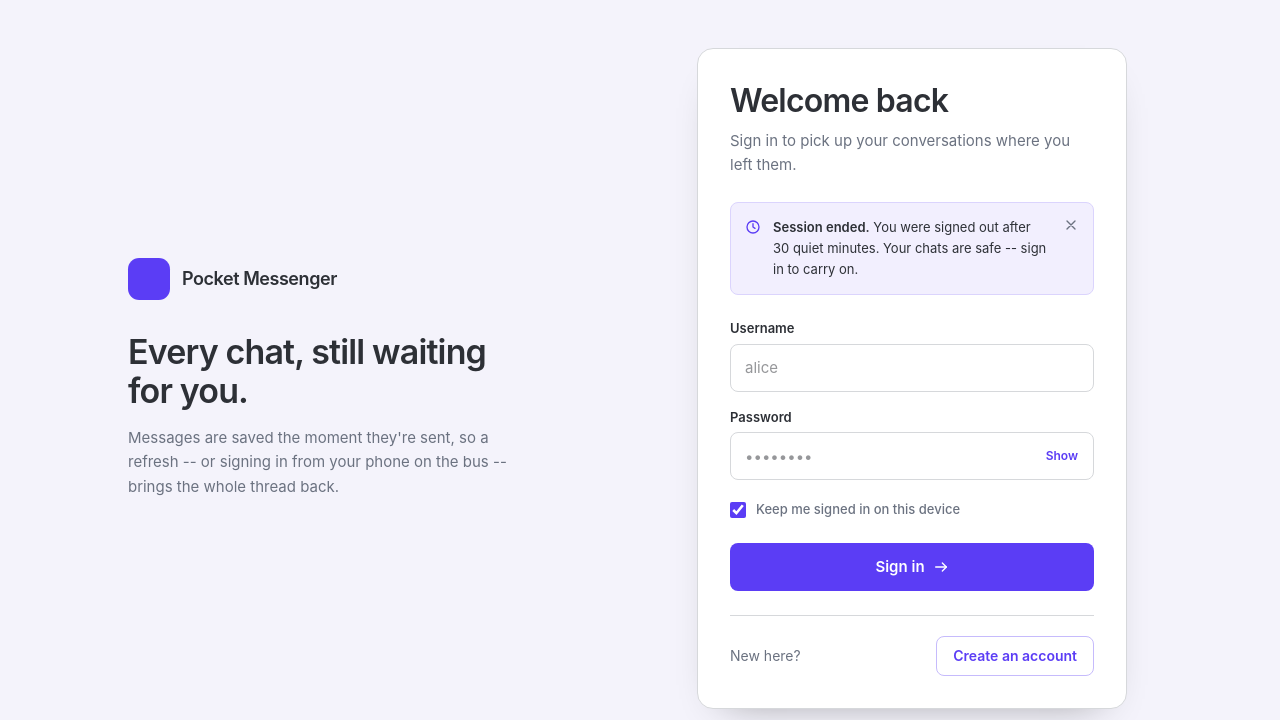
Test: Login screen › [AC-004-like] shows inline validation and sends no request when fields are empty
The width and height of the screenshot is (1280, 720).
Click the button "Sign in": (912, 567) [730,543,1094,591]
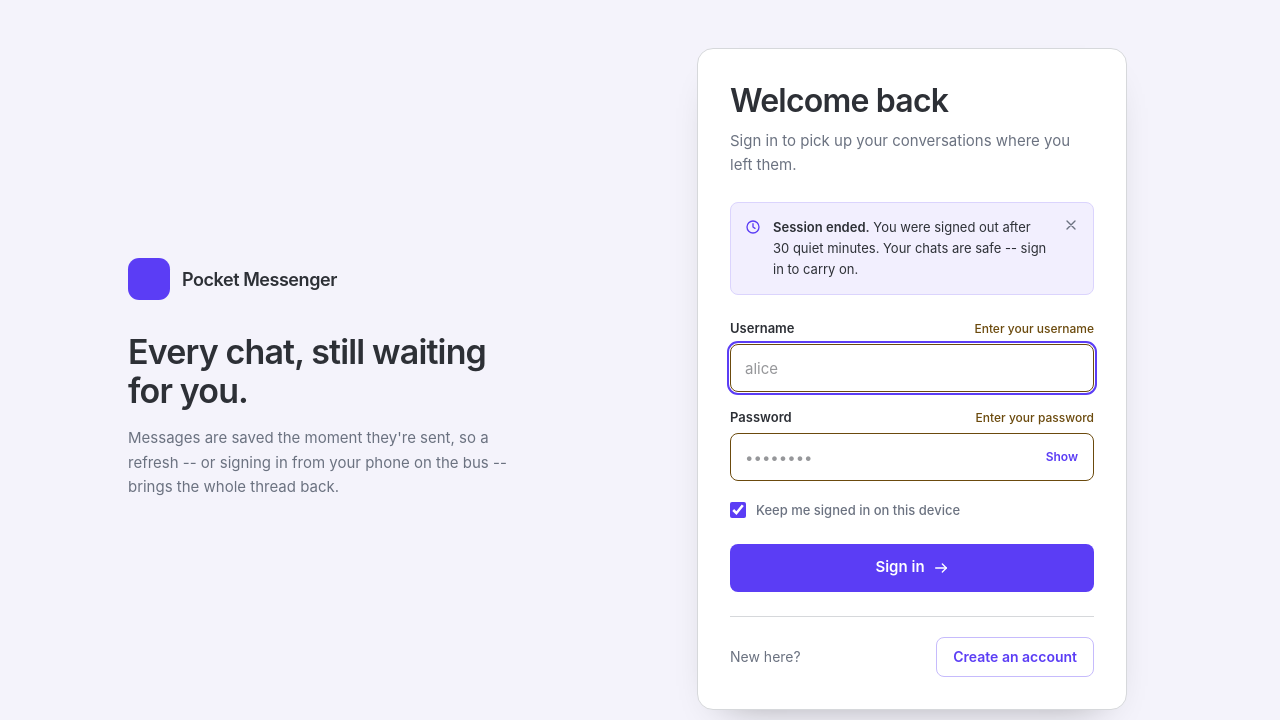
Expected: the text "Enter your username" is shown, [974,320,1094,338]
